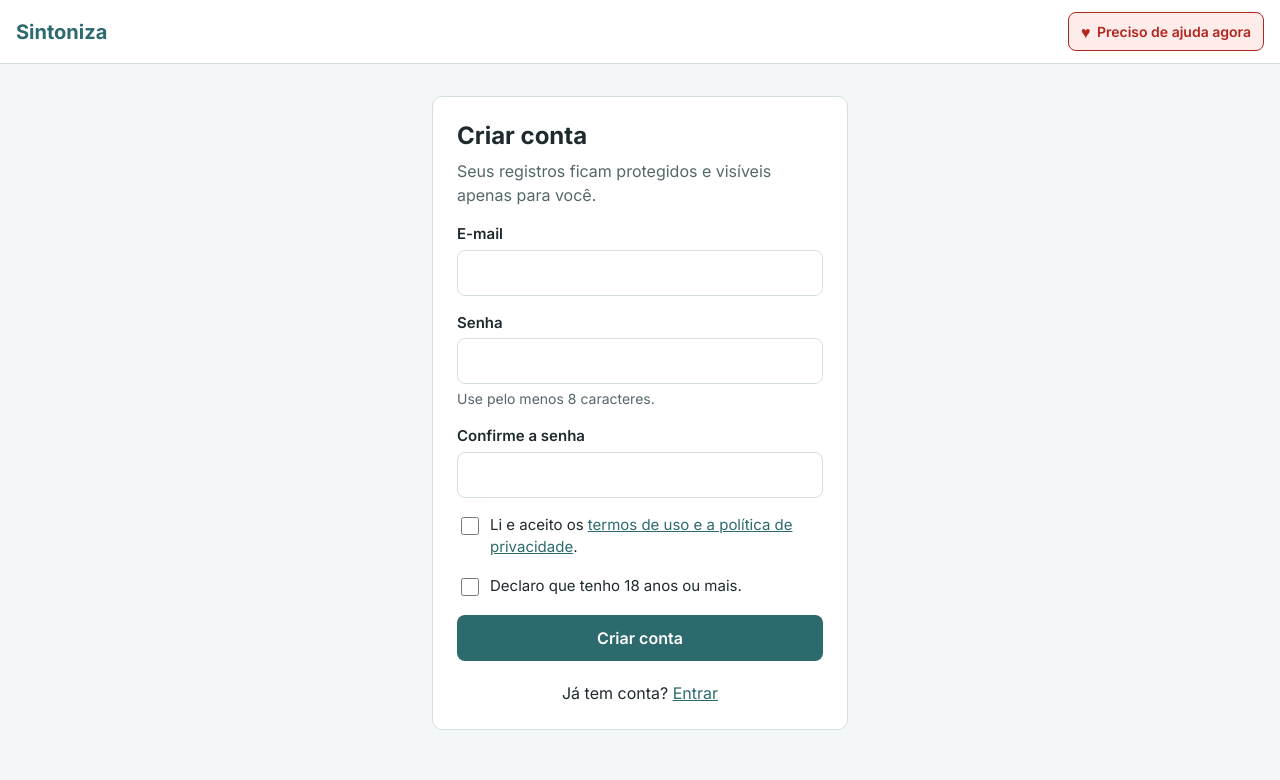
BotaoAjuda "Preciso de ajuda agora" › is shown without login on /cadastro and opens the help screen
What coordinates should you click on to do the following:
click the link "♥ Preciso de ajuda agora"
I would click on:
 (1166, 32)
Its box is [1068,12,1264,51].
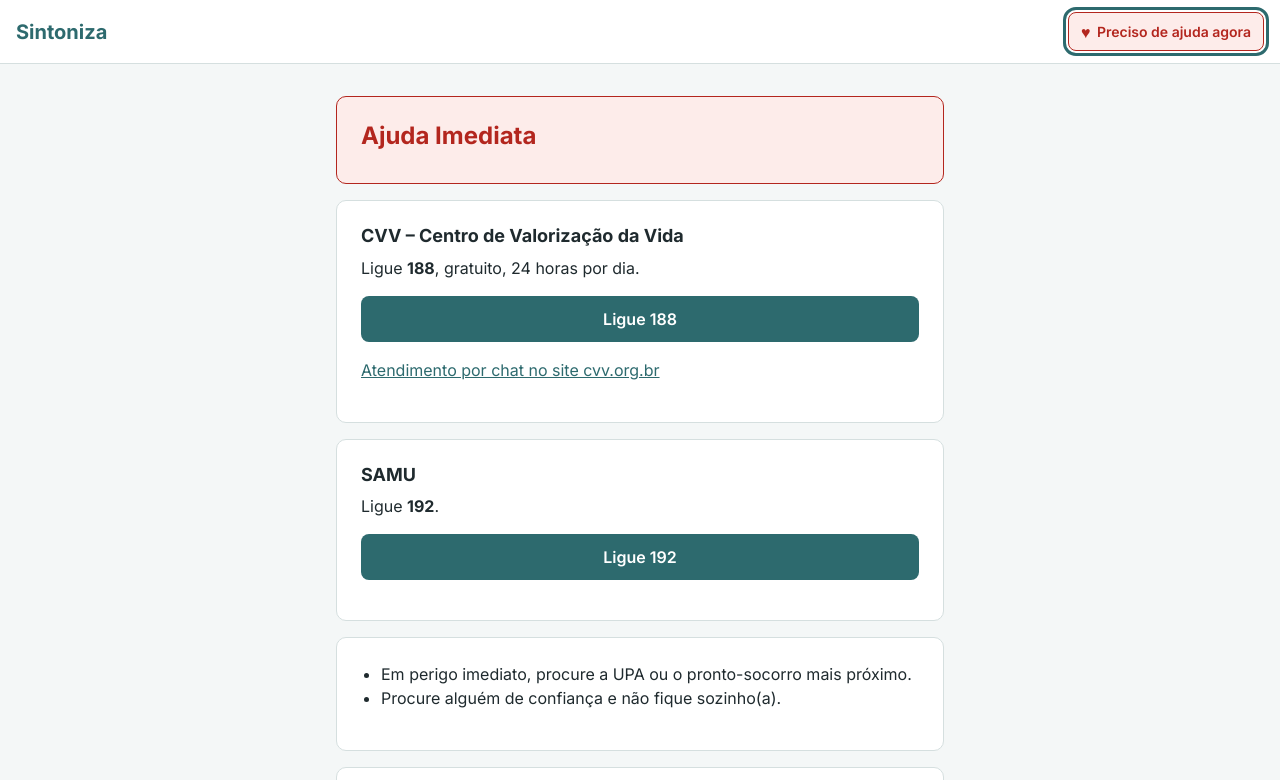
Result: the heading "Ajuda Imediata" is shown at [361,121,536,150]
